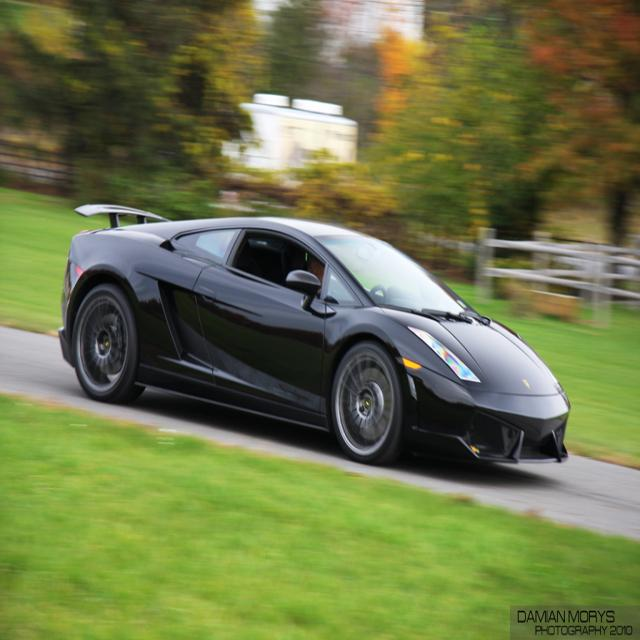car: (57, 196, 569, 468)
